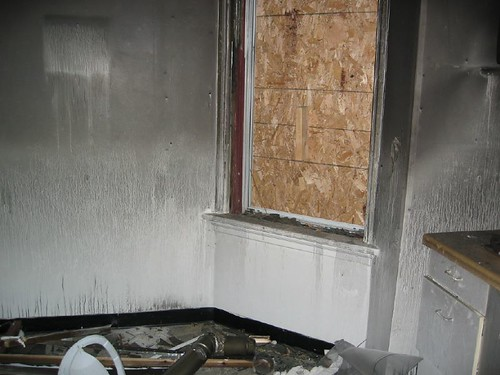trash: (1, 296, 411, 375)
window: (229, 1, 396, 228)
